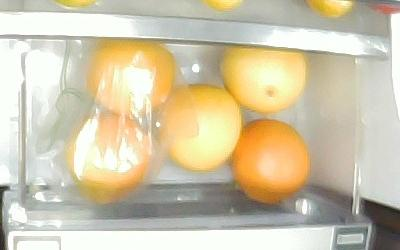grapefruit: (158, 83, 242, 172), (231, 119, 309, 203), (218, 46, 306, 113)
grapefruit_vinyl: (66, 112, 150, 203), (86, 43, 175, 116)
